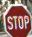Stop sign: (0, 1, 31, 36)
